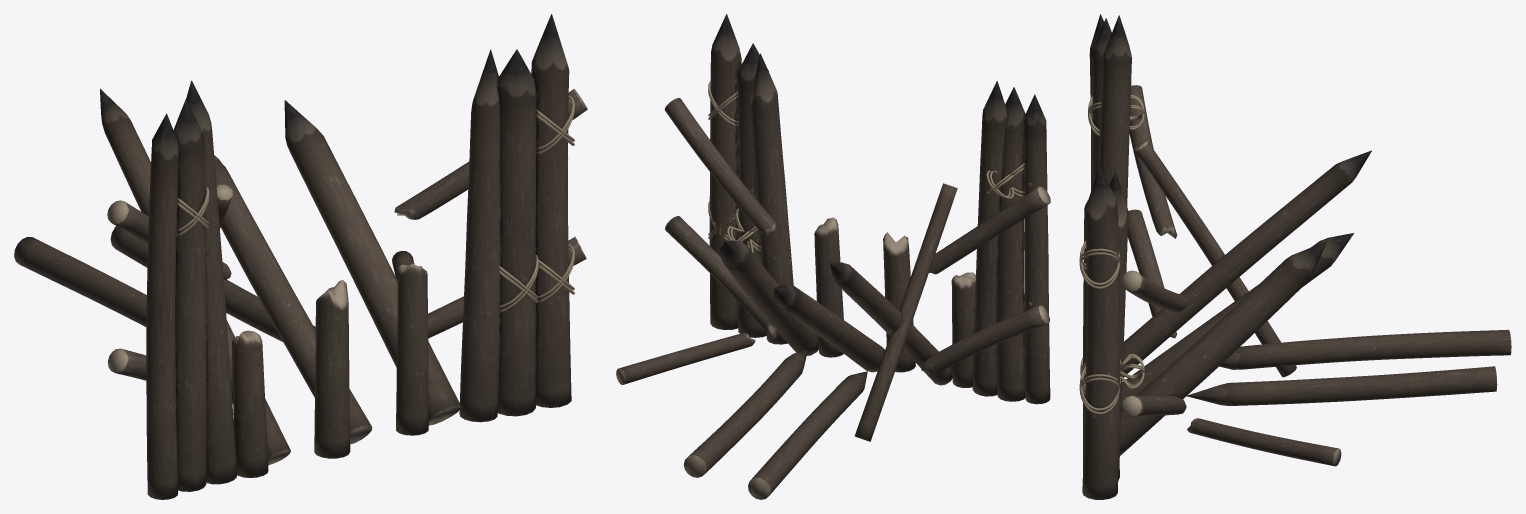
Rendered from SM_SiegeBarricade_Breach.fbx.
3 views of the same model, side by side, from view 1: azimuth 30°, elevation 25°; view 2: azimuth 150°, elevation 25°; view 3: azimuth 270°, elevation 25° (orthographic). The views are drawn at different scales.
Visible parts, largest first — view 1: SM_SiegeBarricade_Breach; view 2: SM_SiegeBarricade_Breach; view 3: SM_SiegeBarricade_Breach.
Part boxes in pixels (left/top/right/bottom): SM_SiegeBarricade_Breach: left=14, top=14, right=587, bottom=499; SM_SiegeBarricade_Breach: left=616, top=14, right=1050, bottom=499; SM_SiegeBarricade_Breach: left=1079, top=14, right=1511, bottom=499.
Bounding box in the file's own units: 436 × 406 × 352.
